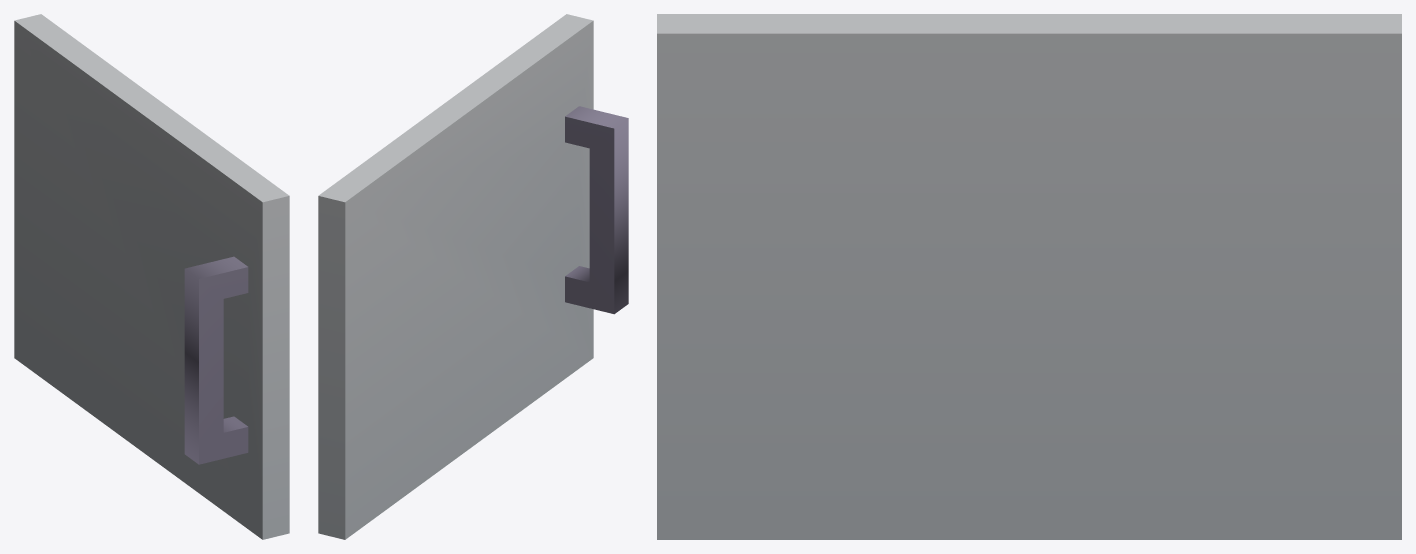
The model's file is (%no-merge) (%open-left) (%low) 20.glb.
3 renders of one model, left to right at view 1: azimuth 30°, elevation 25°; view 2: azimuth 150°, elevation 25°; view 3: azimuth 270°, elevation 25°, orthographic. The views are drawn at different scales.
Visible parts, largest first — view 1: (%no-merge) (%open-left) (%low) 20(Clone); view 2: (%no-merge) (%open-left) (%low) 20(Clone); view 3: (%no-merge) (%open-left) (%low) 20(Clone).
Boxes of the visible parts, bbox=[...] form: (%no-merge) (%open-left) (%low) 20(Clone): bbox=[14, 14, 289, 539]; (%no-merge) (%open-left) (%low) 20(Clone): bbox=[318, 14, 628, 539]; (%no-merge) (%open-left) (%low) 20(Clone): bbox=[657, 14, 1401, 539].
Size of the model in its own units: 0.071 by 0.3 by 0.4.
